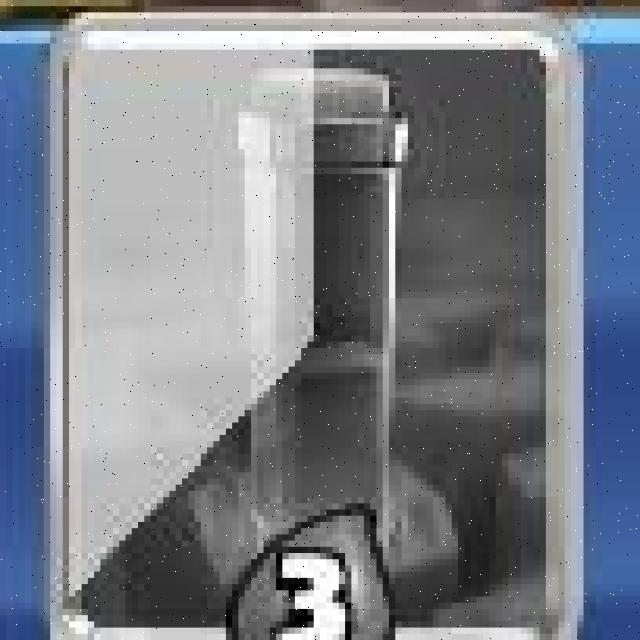Earthquake: (44, 10, 587, 640)
